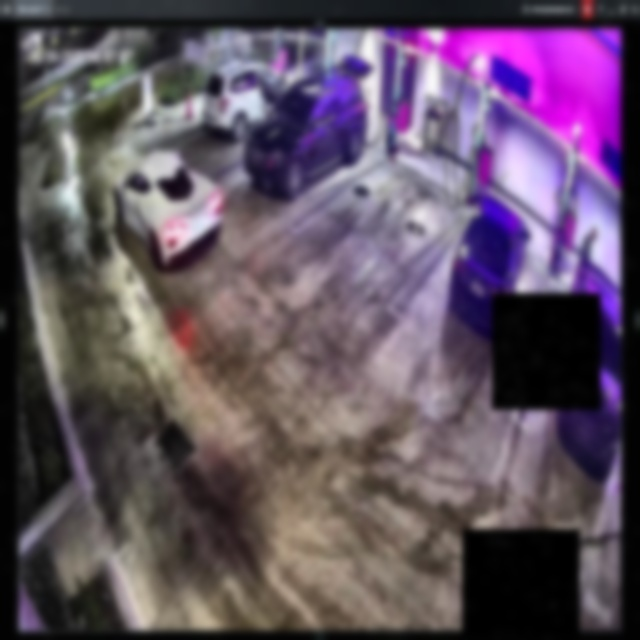Car: (245, 72, 367, 198), (114, 147, 223, 269), (451, 194, 529, 339), (202, 59, 294, 142)
